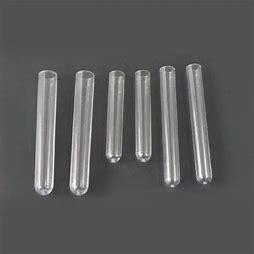Test tube: (33, 49, 63, 201), (157, 63, 184, 188), (111, 55, 124, 163)
